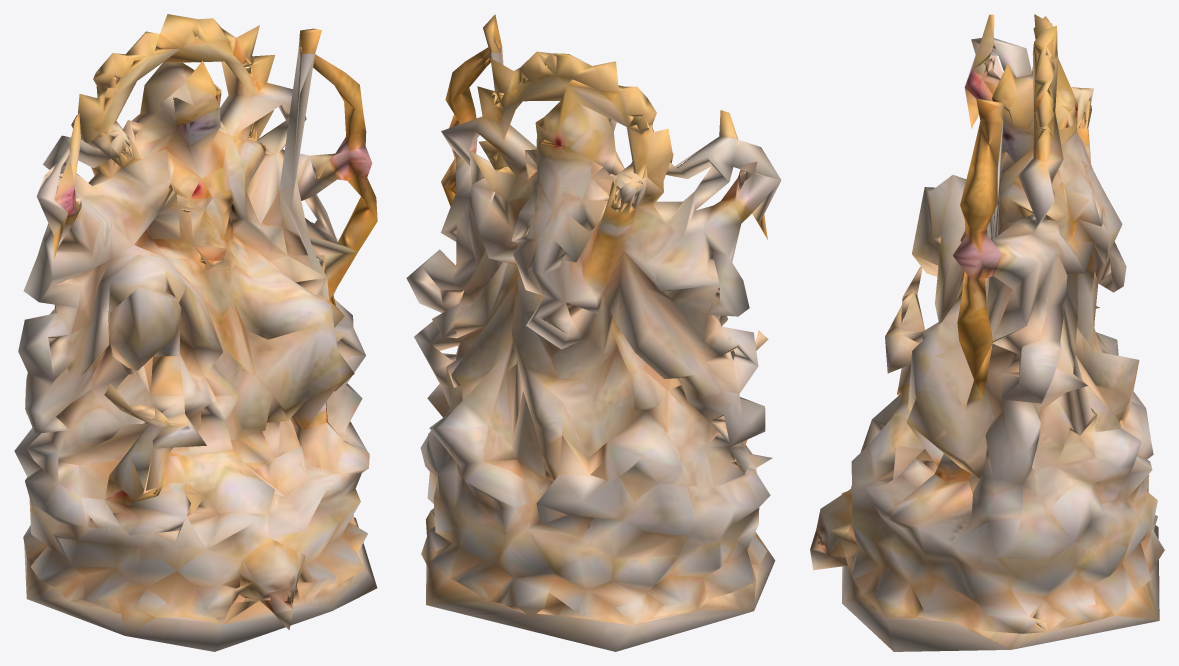
Rendered from far.glb.
3 renders of one model, left to right at view 1: azimuth 30°, elevation 25°; view 2: azimuth 150°, elevation 25°; view 3: azimuth 270°, elevation 25°, orthographic. The views are drawn at different scales.
Parts seen in each view (by area): view 1: owner-collection20-05; view 2: owner-collection20-05; view 3: owner-collection20-05.
Part boxes in pixels (left/top/right/bottom): owner-collection20-05: left=14, top=14, right=377, bottom=651; owner-collection20-05: left=406, top=14, right=781, bottom=651; owner-collection20-05: left=810, top=14, right=1164, bottom=651.
Size of the model in its own units: 0.643 by 0.9849 by 0.5642.
1 material, 1 textured.
